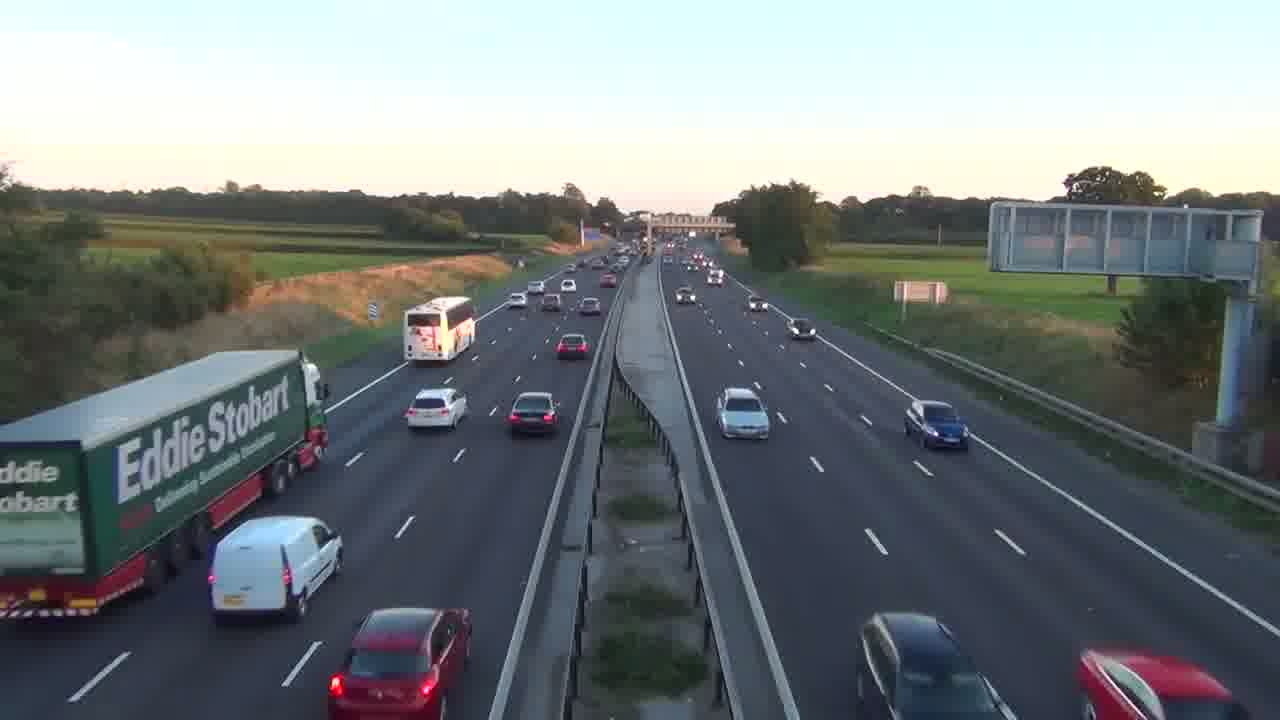car: (854, 609, 1019, 718), (326, 606, 472, 718), (1074, 641, 1244, 720), (902, 400, 968, 451), (403, 386, 469, 431), (716, 387, 771, 440), (506, 391, 561, 437), (554, 332, 590, 360), (577, 296, 602, 316)
truck: (1, 348, 323, 623), (208, 514, 344, 624)
